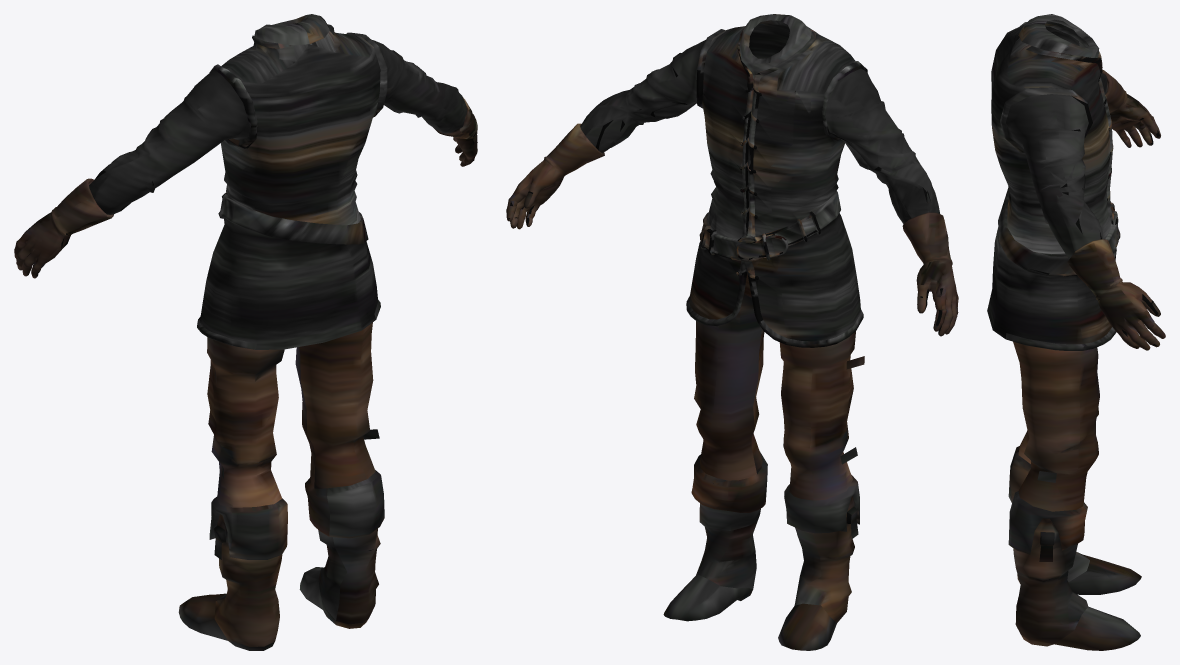
3 views of the same model, side by side, from view 1: azimuth 30°, elevation 25°; view 2: azimuth 150°, elevation 25°; view 3: azimuth 270°, elevation 25° (orthographic). The views are drawn at different scales.
Visible parts, largest first — view 1: mesh_0; view 2: mesh_0; view 3: mesh_0.
Boxes of the visible parts, x1,y1,x2,y2 form: mesh_0: (14,14,477,650); mesh_0: (506,14,958,650); mesh_0: (987,14,1165,650).
Bounding box in the file's own units: 49.84 × 63.83 × 17.46.
Materials: 1 (1 with a texture image).
